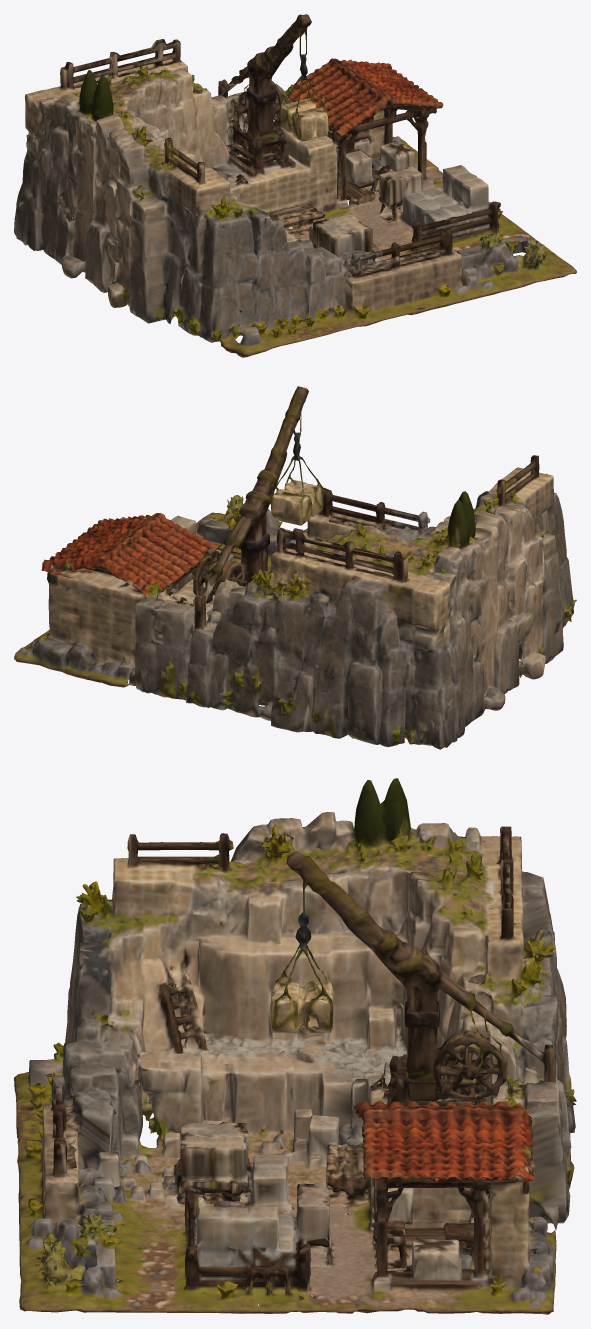
The model's file is SM_CanteraSencilla.fbx.
3 views of the same model, one above another, from view 1: azimuth 30°, elevation 25°; view 2: azimuth 150°, elevation 25°; view 3: azimuth 270°, elevation 25° (orthographic). The views are drawn at different scales.
Visible parts, largest first — view 1: SM_CanteraSencilla; view 2: SM_CanteraSencilla; view 3: SM_CanteraSencilla.
Part boxes in pixels (bbox=[...]): SM_CanteraSencilla: bbox=[14, 14, 576, 357]; SM_CanteraSencilla: bbox=[14, 386, 576, 749]; SM_CanteraSencilla: bbox=[14, 778, 576, 1314].
Size of the model in its own units: 99.87 by 56.69 by 85.57.
Materials: 1 (1 with a texture image).
